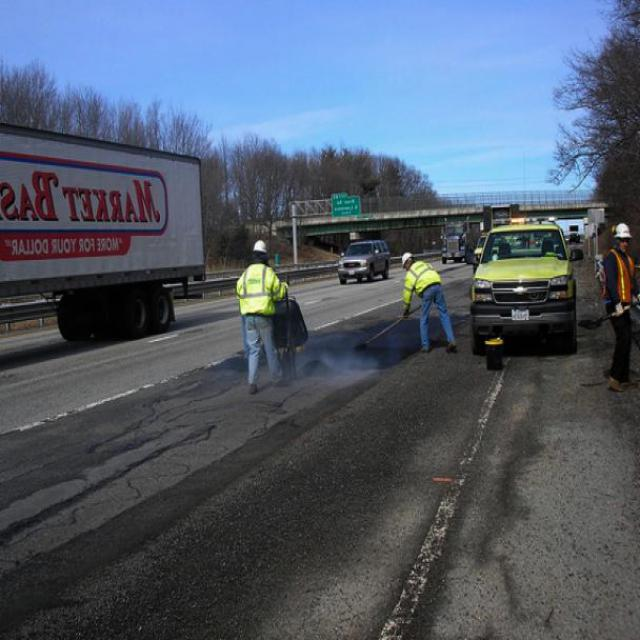helmet: (615, 220, 633, 254), (399, 241, 417, 268), (256, 238, 270, 258)
vest: (238, 263, 278, 313), (604, 248, 638, 299), (405, 254, 437, 301)
